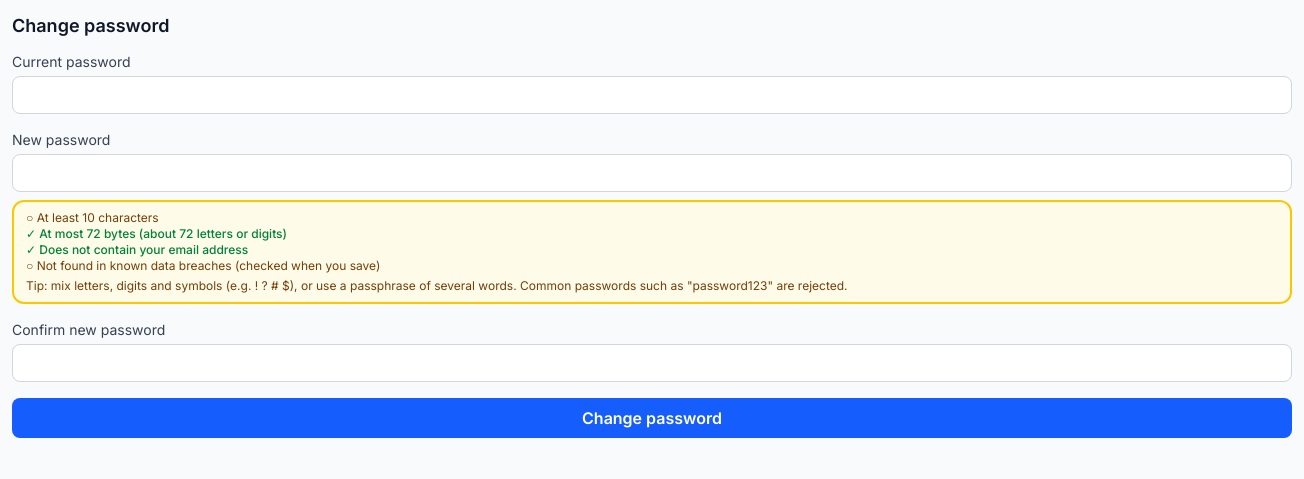
Scenario: ChangePasswordForm › a mismatch sends no request
In the password field with test id "change-password-current": {"x": 652, "y": 95} [12,76,1292,114], type "old password 1"
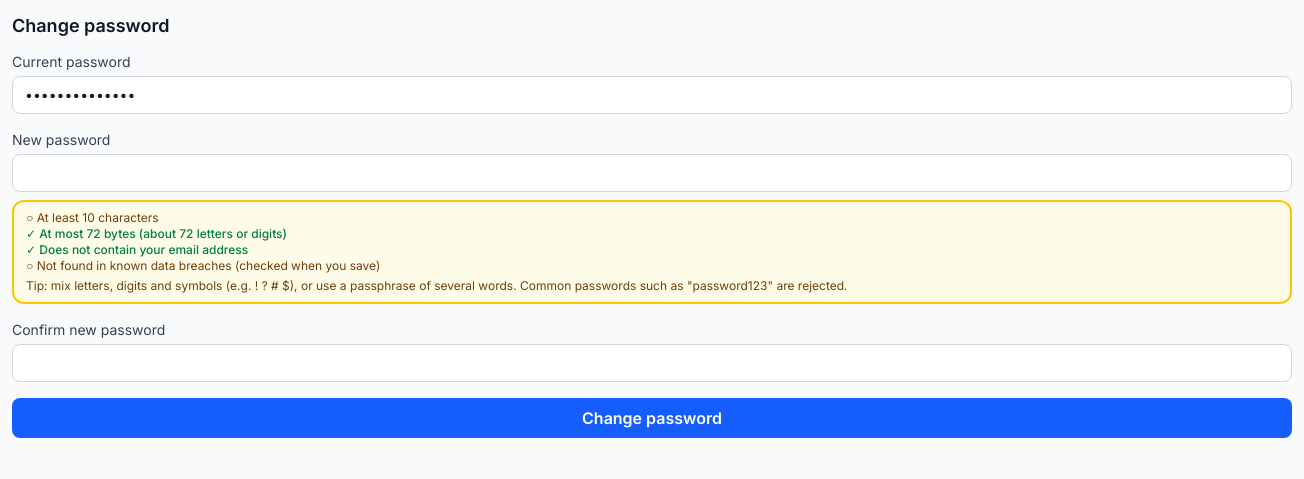
In the password field with test id "change-password-new": {"x": 652, "y": 173} [12,154,1292,192], type "brand new passphrase"
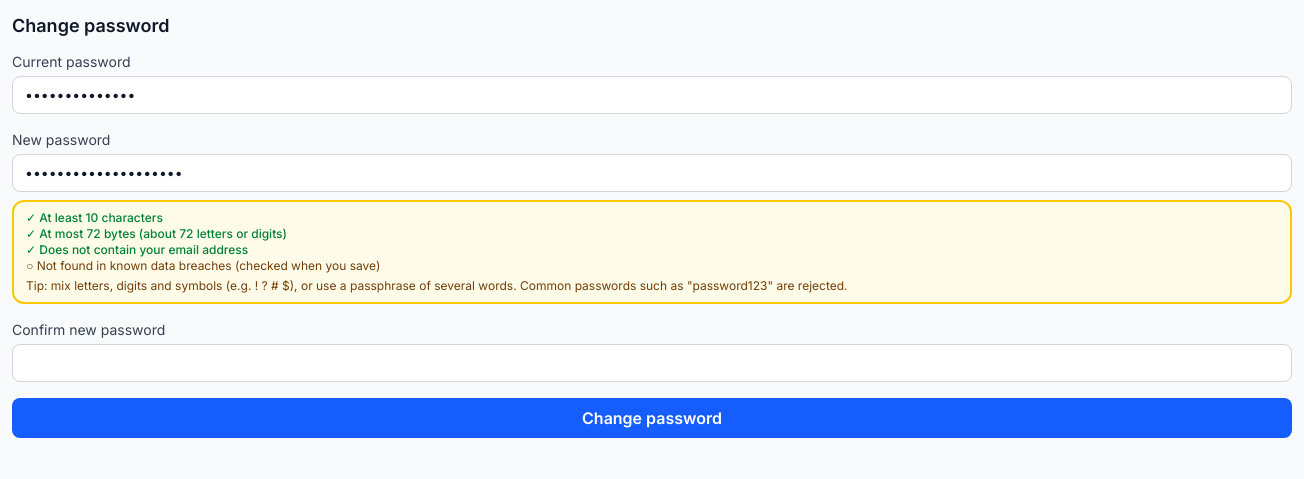
In the password field with test id "change-password-confirm": {"x": 652, "y": 363} [12,344,1292,382], type "something else entirely"
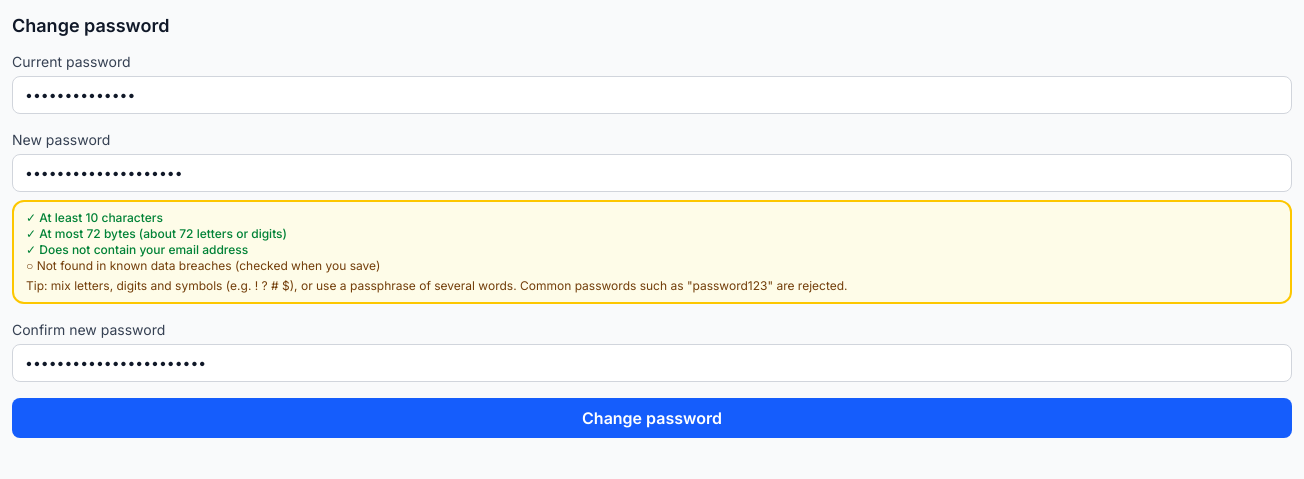
Click the button with test id "change-password-submit": {"x": 652, "y": 418} [12,398,1292,438]
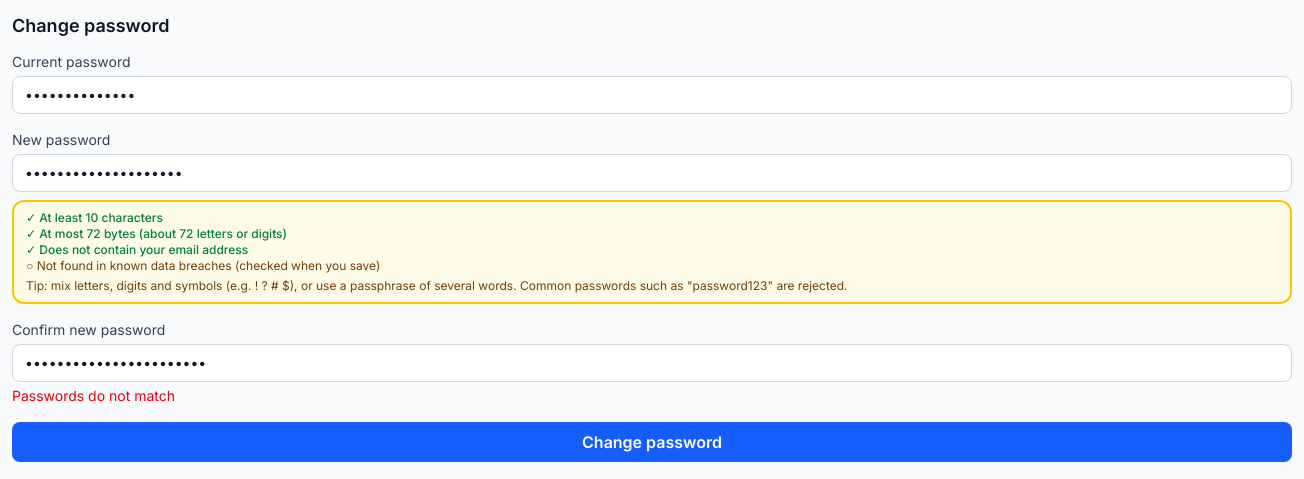
Now the message with test id "field-error-confirm" reads "Passwords do not match", box [12,387,175,404]
